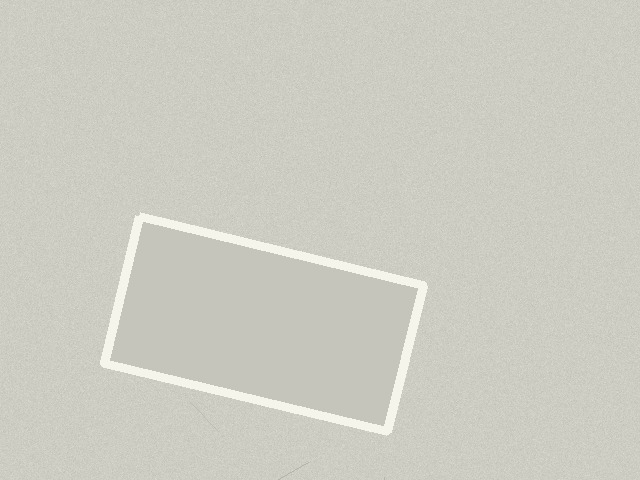parking_area: (104, 216, 423, 431)
